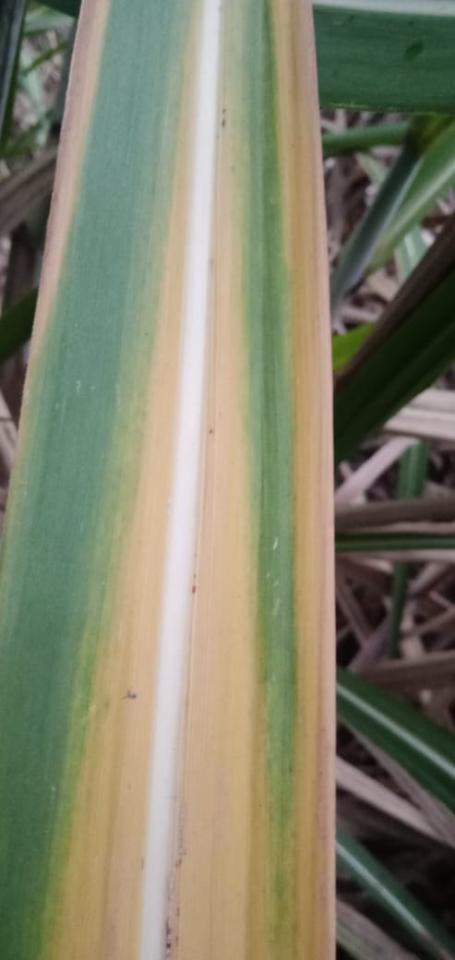Rust: (119, 688, 137, 701), (164, 917, 172, 940), (220, 107, 228, 116), (221, 119, 227, 130), (175, 906, 181, 917), (174, 935, 180, 945), (164, 943, 171, 950), (208, 428, 213, 435)
Yellow: (56, 0, 204, 959), (173, 133, 267, 959), (274, 0, 336, 959), (29, 1, 111, 357)
